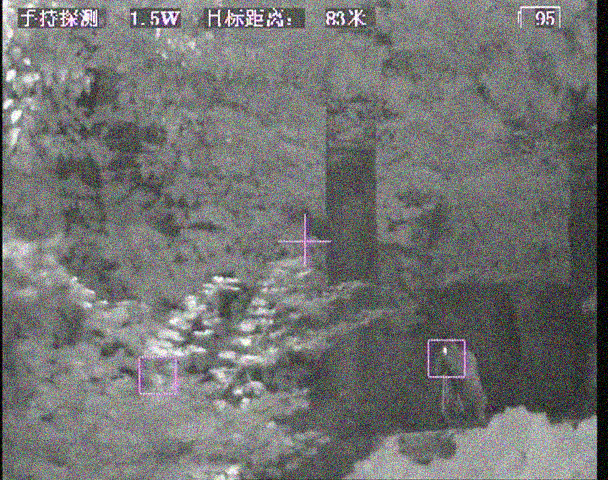my: (440, 346, 451, 357)
